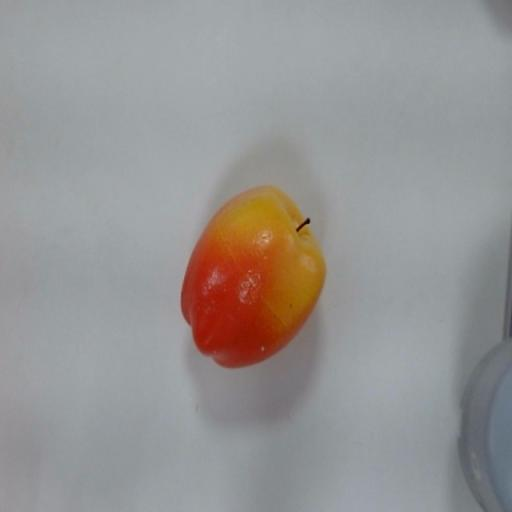Ripe: (174, 186, 347, 373)
